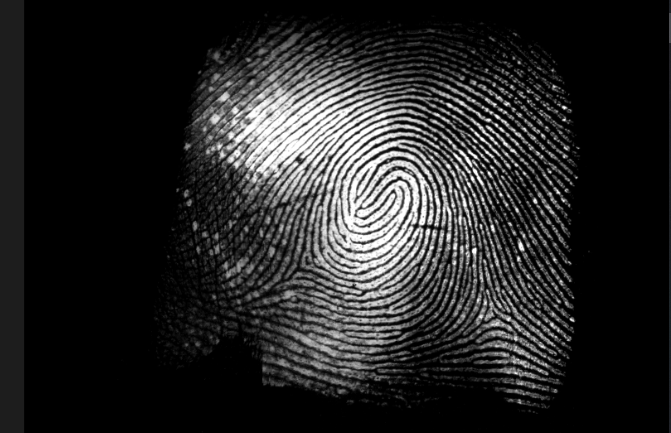deltas: (269, 234, 334, 293), (463, 281, 516, 336)
nucleo: (340, 169, 419, 229)
